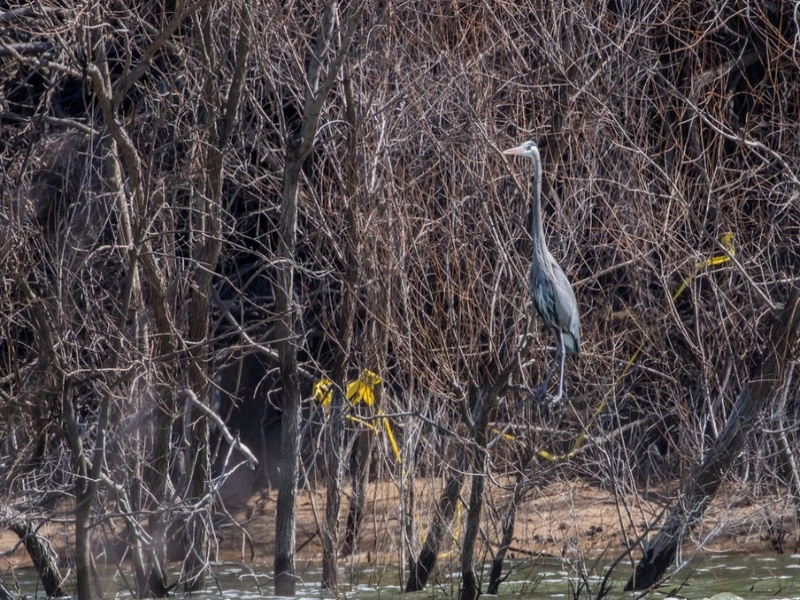heron: (499, 137, 583, 406)
